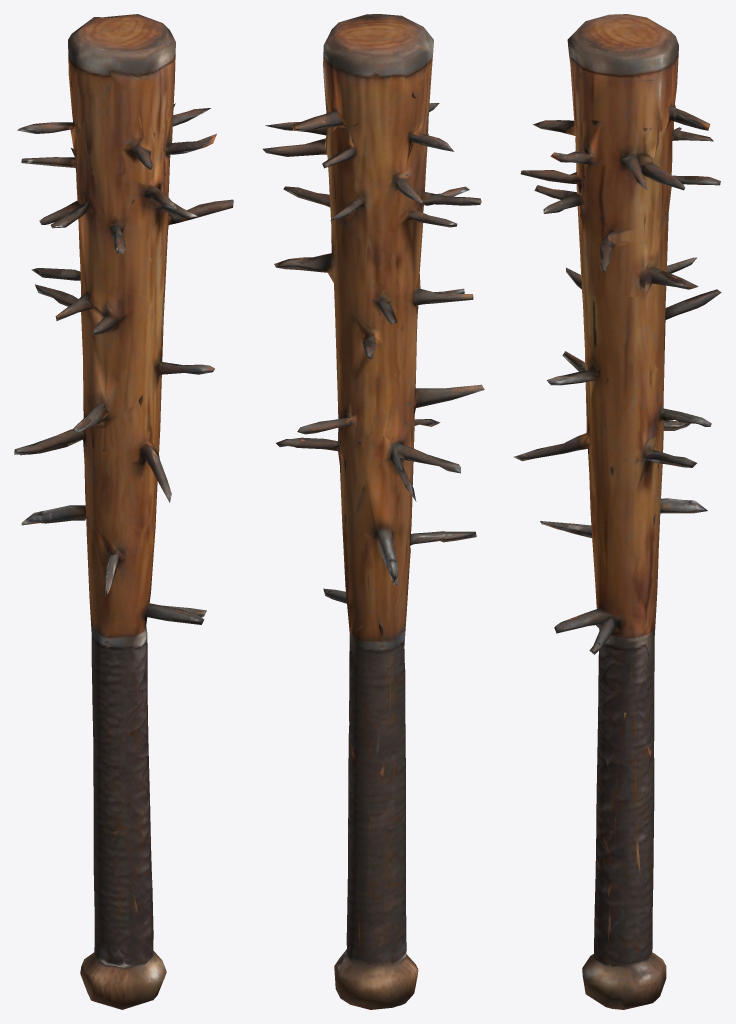
File: 1493_club.glb
3 views of the same model, side by side, from view 1: azimuth 30°, elevation 25°; view 2: azimuth 150°, elevation 25°; view 3: azimuth 270°, elevation 25° (orthographic).
Visible parts, largest first — view 1: Model; view 2: Model; view 3: Model.
Boxes of the visible parts, <box> form: Model: <box>14,14,233,1009</box>; Model: <box>263,14,484,1009</box>; Model: <box>513,14,721,1009</box>.
Bounding box in the file's own units: 0.215 × 1 × 0.1959.
1 material, 1 textured.
